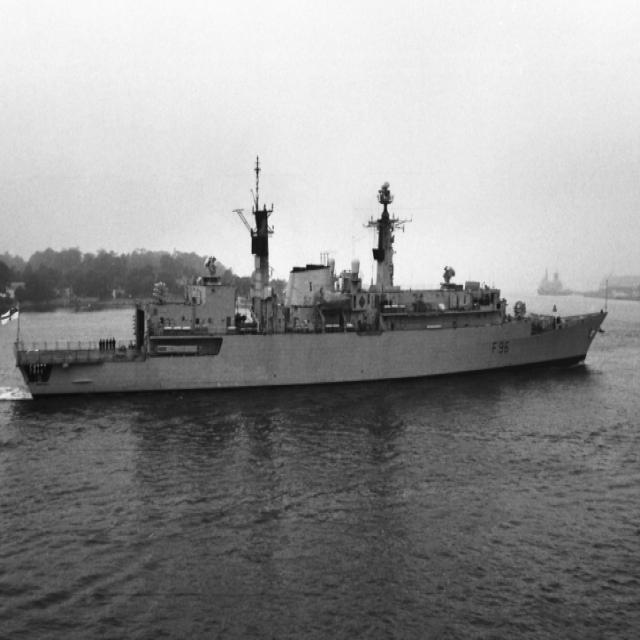Fragata: (14, 151, 611, 407)
